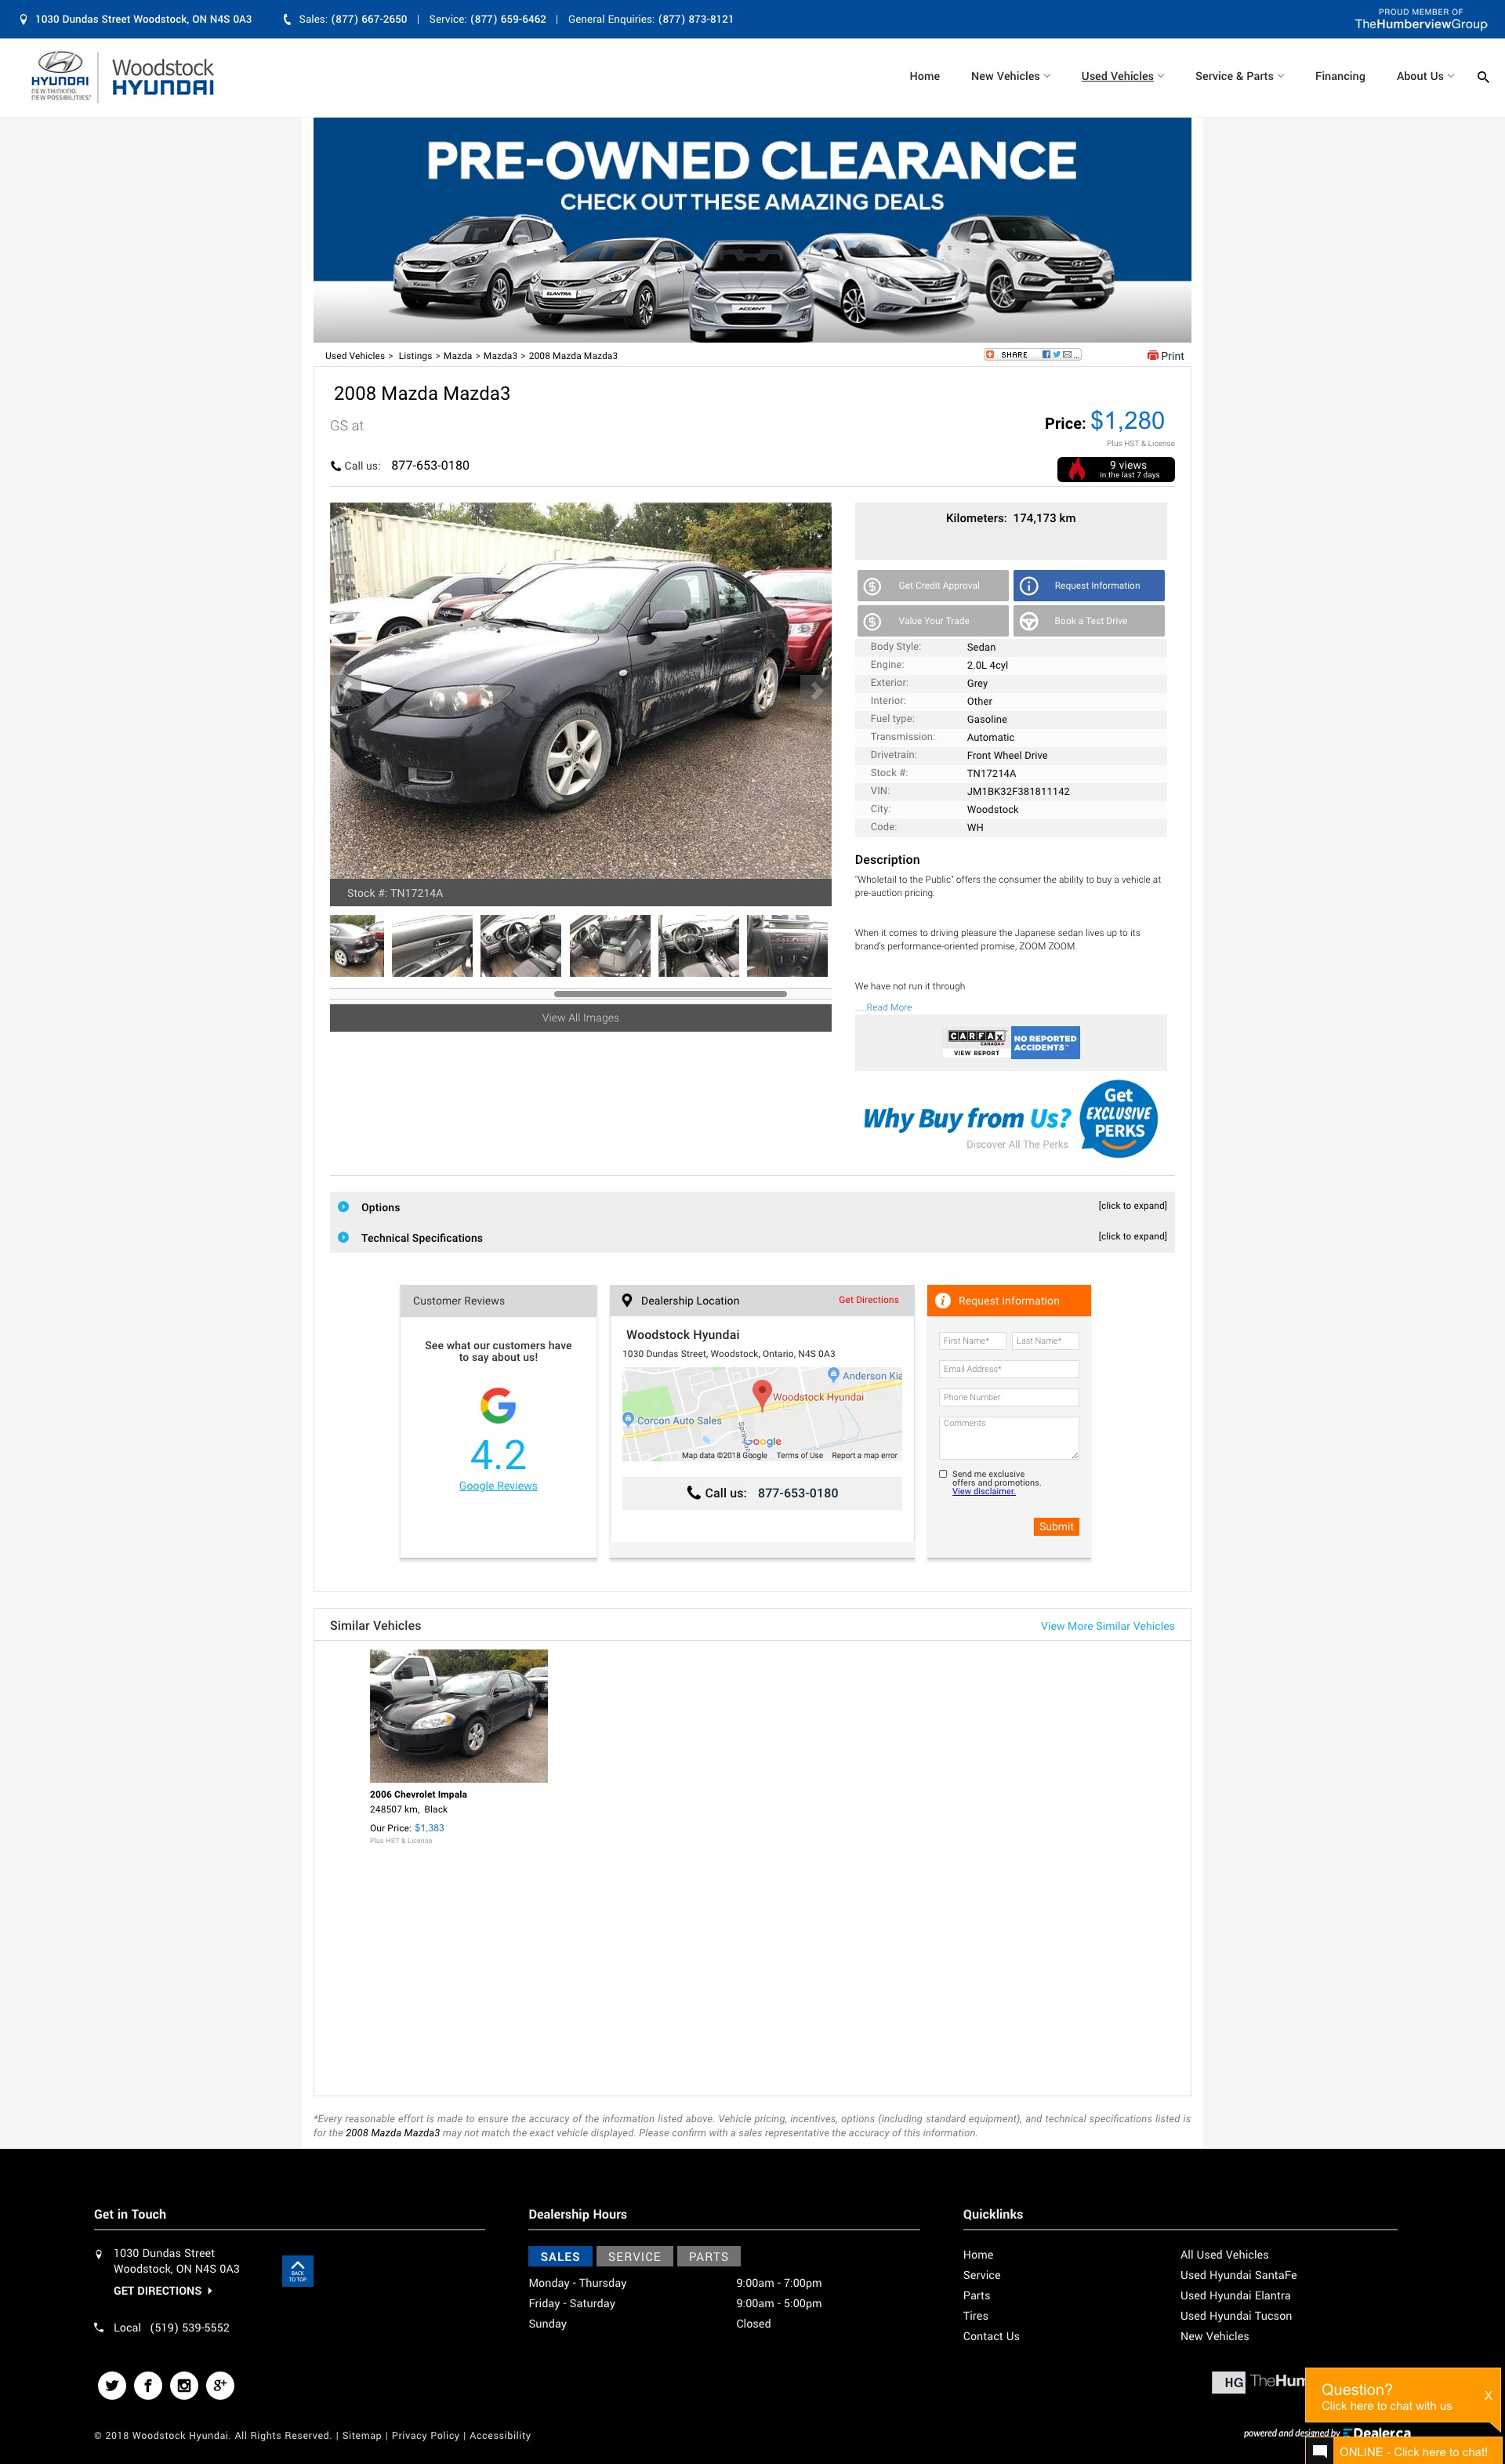car: (799, 674, 834, 709)
